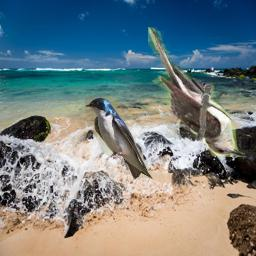Cuckoo: (148, 27, 245, 157)
Swallow: (85, 97, 153, 180)
